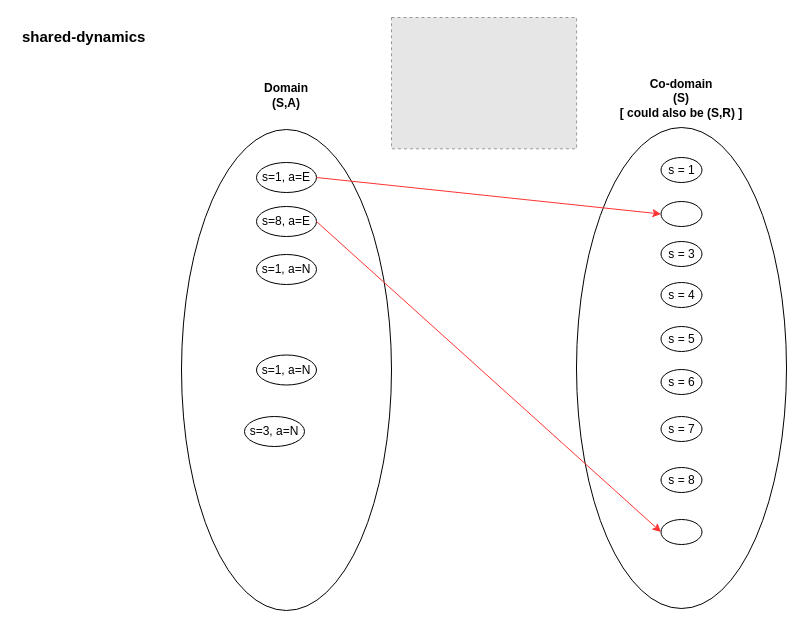
The diagram is 804 pixels wide and 628 high, and some of its shapes have lost their labels. Grey dashed boxes stand in for pictures. Here are the shapes that lost their labels. From the top down, the centre of each, then its label:
pixel 681 213: s = 2
pixel 681 531: s = 9
